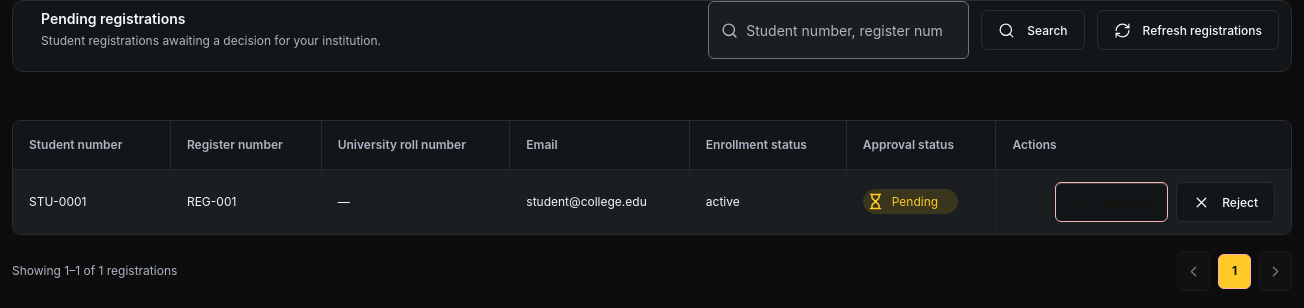
registration queue recovery › keeps an uncertain approval available for retry instead of claiming it was processed
Expected: the text "STU-0001" is shown, [13,169,171,234]
Step 1. Click the button "Approve" → click(1112, 202), box [1055,182,1168,222]
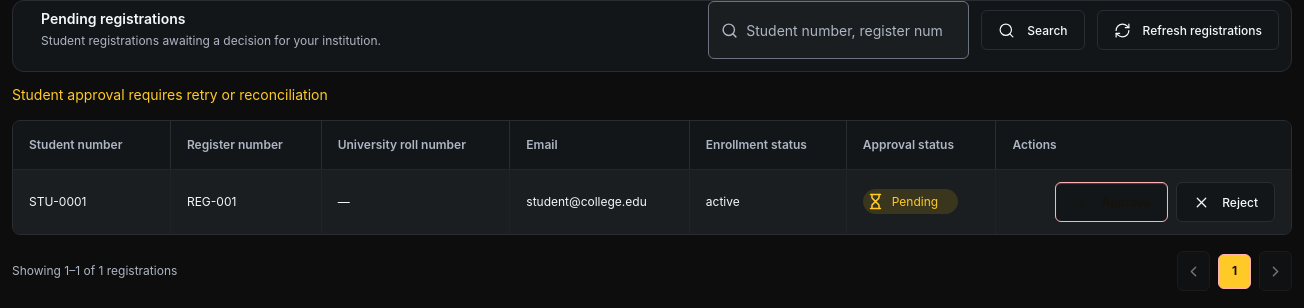
Expected: the text "Student approval requires retry or reconciliation" is shown, [12,86,328,103]
